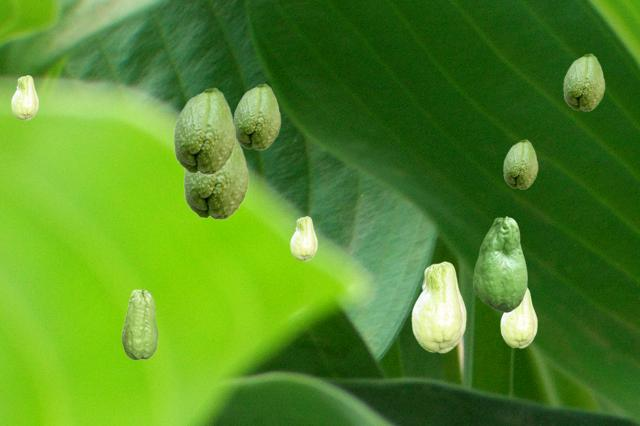sayote: (173, 87, 235, 174), (183, 141, 248, 219), (473, 216, 526, 311), (411, 261, 465, 352), (233, 83, 280, 149), (121, 289, 157, 359), (563, 53, 604, 110), (500, 287, 536, 347), (503, 139, 537, 188), (290, 216, 316, 260), (11, 75, 37, 119)
